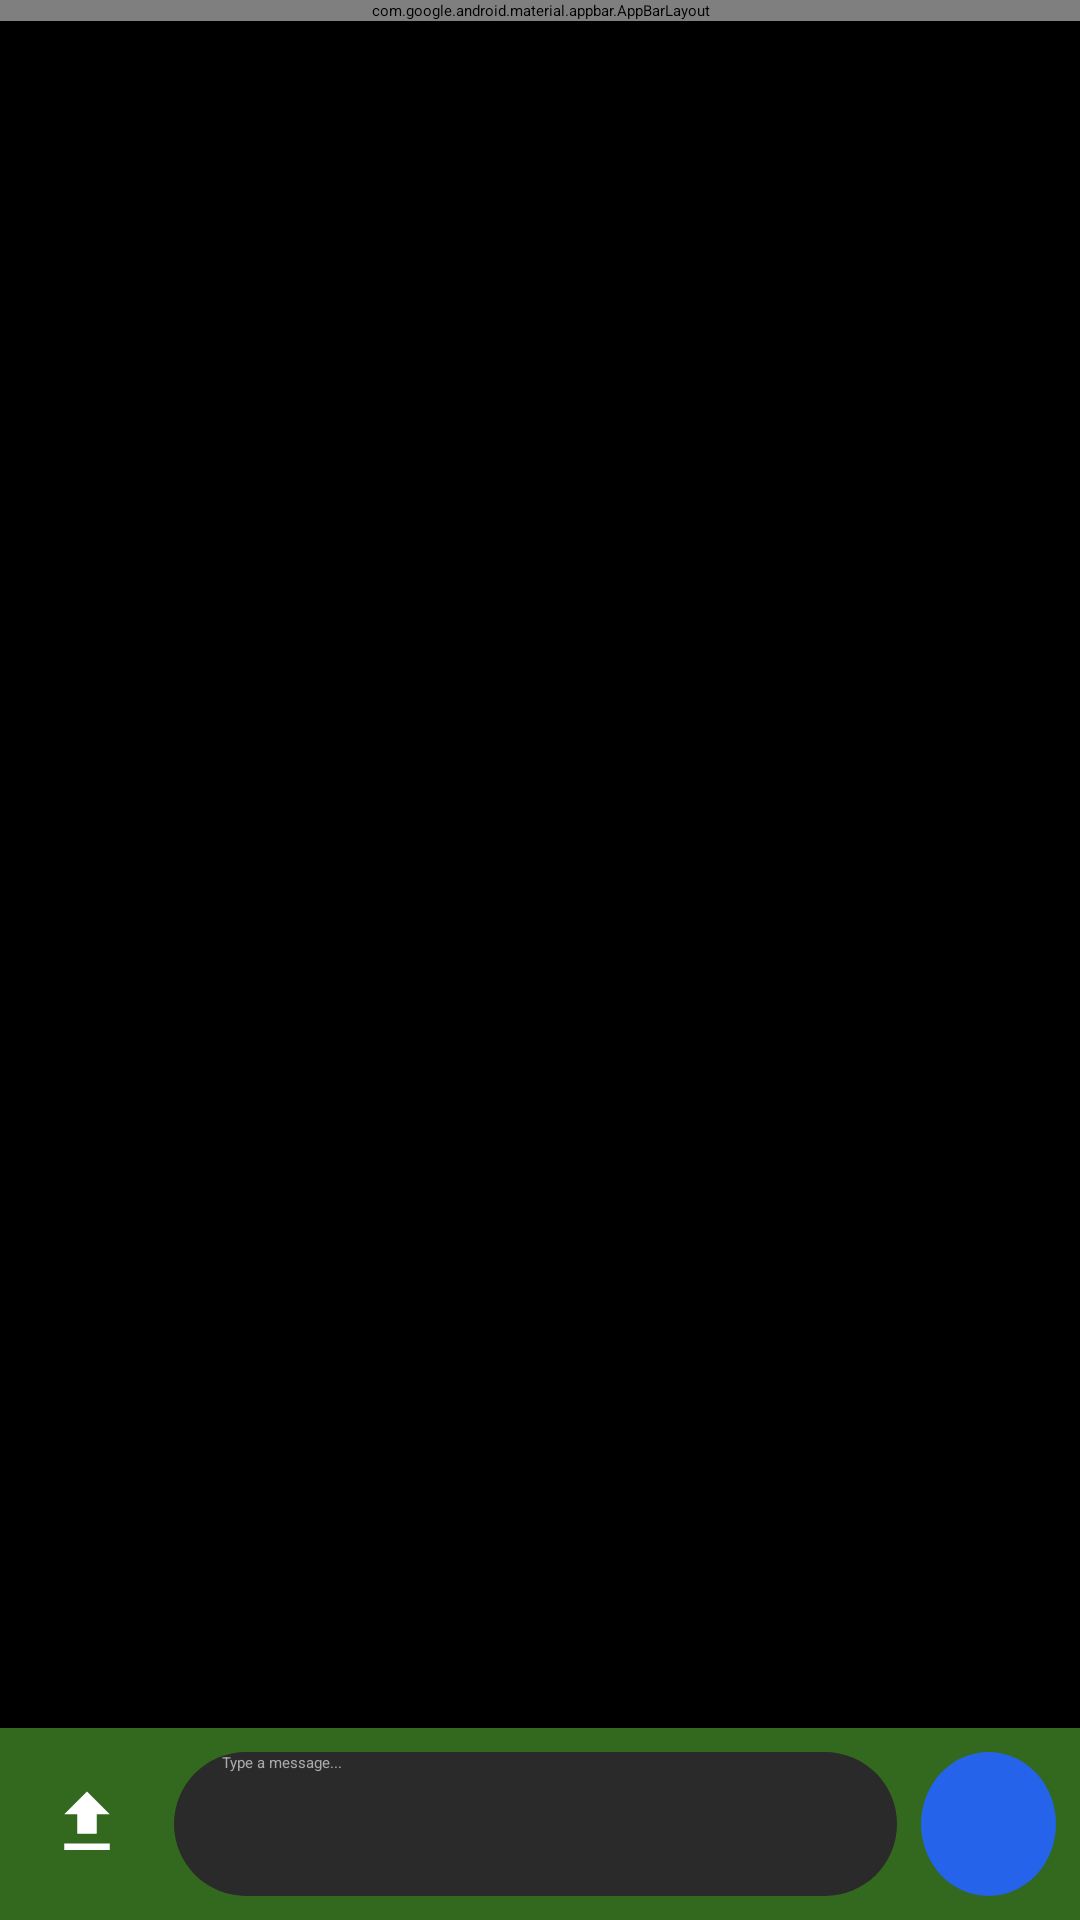

Icons on this 1080px x 1920px Android screen, each with its box as (x1, y1, x2, y2):
Upload Image: (64, 1791, 110, 1850)
